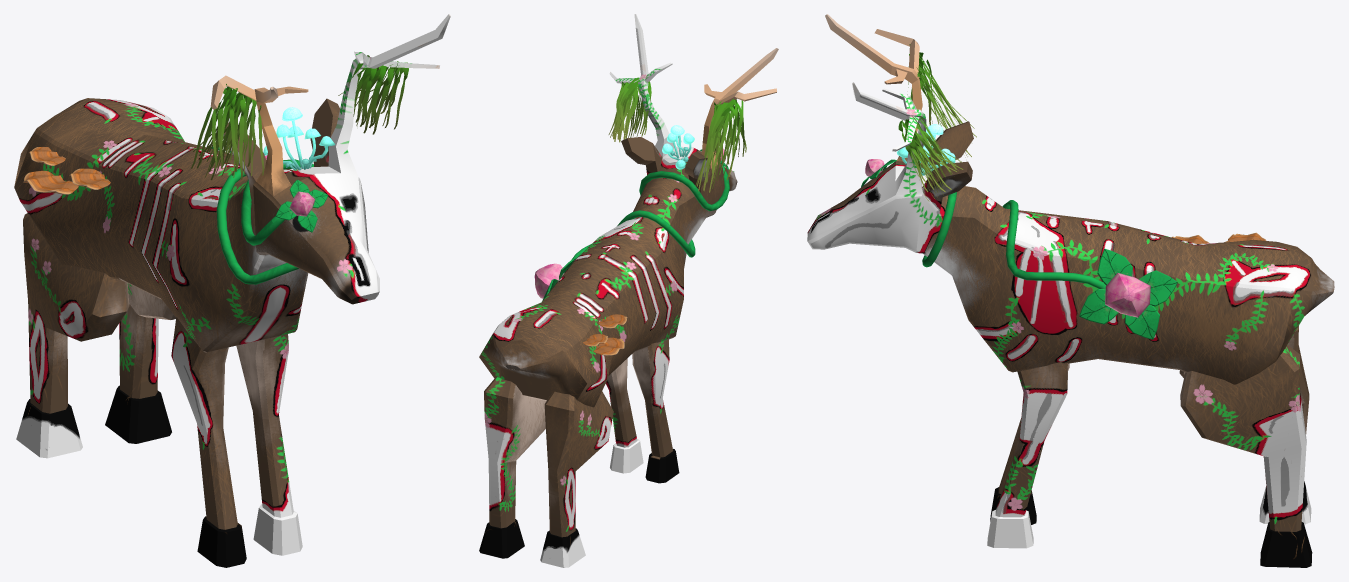
File: Deer_V2.fbx
The picture shows the model from 3 angles, left to right: view 1: azimuth 30°, elevation 25°; view 2: azimuth 150°, elevation 25°; view 3: azimuth 270°, elevation 25°; orthographic projection. The views are drawn at different scales.
Parts seen in each view (by area): view 1: Day_Deer, Vine, Moss5, Moss4, Moss2, Glowing_Mushrooms2, flower1Shape1, Moss, shelf_fungus5, shelf_fungus3; view 2: Day_Deer, Moss2, Vine, Moss, Glowing_Mushrooms2, flower1Shape, Moss4, Moss5, shelf_fungus5; view 3: Day_Deer, flower1Shape, Vine, Moss4, Moss, Moss2.
Boxes of the visible parts, bbox=[...] form: Day_Deer: bbox=[14, 14, 450, 567]; Vine: bbox=[216, 159, 313, 284]; Moss5: bbox=[210, 88, 264, 179]; Moss4: bbox=[353, 62, 408, 134]; Moss2: bbox=[191, 84, 252, 180]; Glowing_Mushrooms2: bbox=[263, 107, 334, 170]; flower1Shape1: bbox=[275, 179, 328, 232]; Moss: bbox=[338, 55, 399, 133]; shelf_fungus5: bbox=[23, 170, 78, 194]; shelf_fungus3: bbox=[69, 168, 110, 189]; Day_Deer: bbox=[479, 14, 778, 567]; Moss2: bbox=[695, 99, 743, 192]; Vine: bbox=[571, 164, 729, 259]; Moss: bbox=[610, 80, 651, 142]; Glowing_Mushrooms2: bbox=[662, 125, 694, 169]; flower1Shape: bbox=[534, 253, 581, 300]; Moss4: bbox=[608, 77, 648, 139]; Moss5: bbox=[713, 103, 746, 164]; shelf_fungus5: bbox=[593, 337, 624, 355]; Day_Deer: bbox=[807, 14, 1334, 567]; flower1Shape: bbox=[1079, 248, 1177, 339]; Vine: bbox=[882, 169, 1106, 289]; Moss4: bbox=[898, 116, 956, 201]; Moss: bbox=[904, 115, 963, 199]; Moss2: bbox=[909, 44, 976, 162].
Size of the model in its own units: 6.62 by 15.64 by 14.93.
